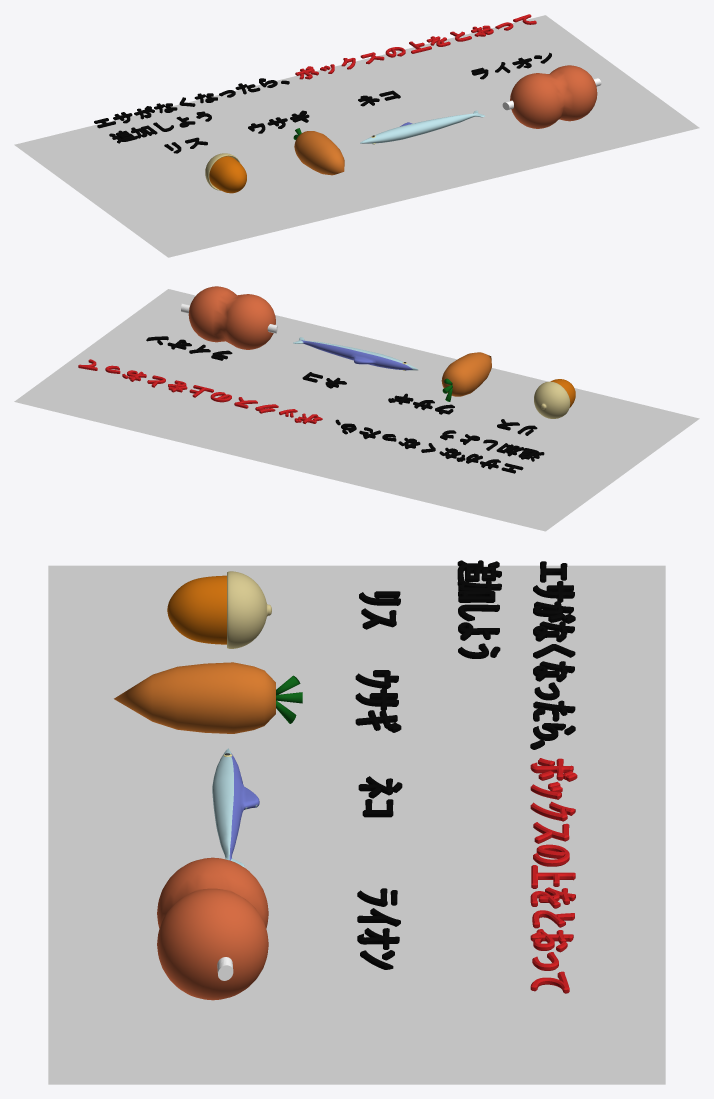
File: tutorial2obj.fbx
3 renders of one model, top to bottom at view 1: azimuth 30°, elevation 25°; view 2: azimuth 150°, elevation 25°; view 3: azimuth 270°, elevation 25°, orthographic. The views are drawn at different scales.
Visible parts, largest first — view 1: 平面, niku, テキスト, ninjin, donguri, sanma, テキスト.006, テキスト.005, テキスト.001, テキスト.002; view 2: 平面, niku, テキスト, ninjin, donguri, sanma, テキスト.006, テキスト.005, テキスト.001, テキスト.002; view 3: 平面, niku, ninjin, テキスト, donguri, テキスト.006, sanma, テキスト.005, テキスト.001, テキスト.002, テキスト.003, テキスト.004.
Part boxes in pixels (x1,y1,x2,y2): 平面: (14,15,699,257); niku: (502,65,601,128); テキスト: (94,78,289,143); ninjin: (293,128,344,175); donguri: (205,153,246,193); sanma: (360,110,484,144); テキスト.006: (385,14,536,57); テキスト.005: (295,52,384,79); テキスト.001: (471,52,551,79); テキスト.002: (248,110,309,133); 平面: (14,289,699,531); niku: (181,286,277,349); テキスト: (335,419,544,473); ninjin: (441,352,491,401); donguri: (534,379,575,418); sanma: (293,337,418,370); テキスト.006: (78,359,231,402); テキスト.005: (234,397,322,423); テキスト.001: (146,336,232,360); テキスト.002: (388,393,454,414); 平面: (48,565,665,1084); niku: (157,857,268,1000); ninjin: (114,662,302,733); テキスト: (457,560,575,749); donguri: (167,571,271,648); テキスト.006: (530,844,575,993); sanma: (212,748,259,866); テキスト.005: (530,758,577,843); テキスト.001: (357,888,400,969); テキスト.002: (355,670,401,732); テキスト.003: (359,591,400,629); テキスト.004: (358,776,402,817).
Size of the model in its own units: 1268 by 118 by 638.
